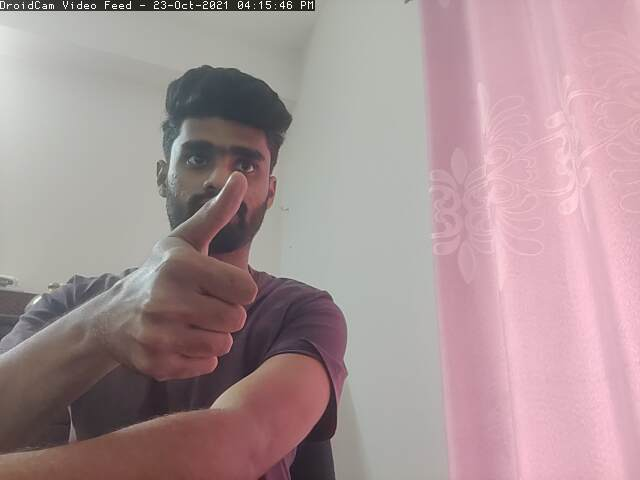ThumbsUp: (125, 168, 259, 383)
